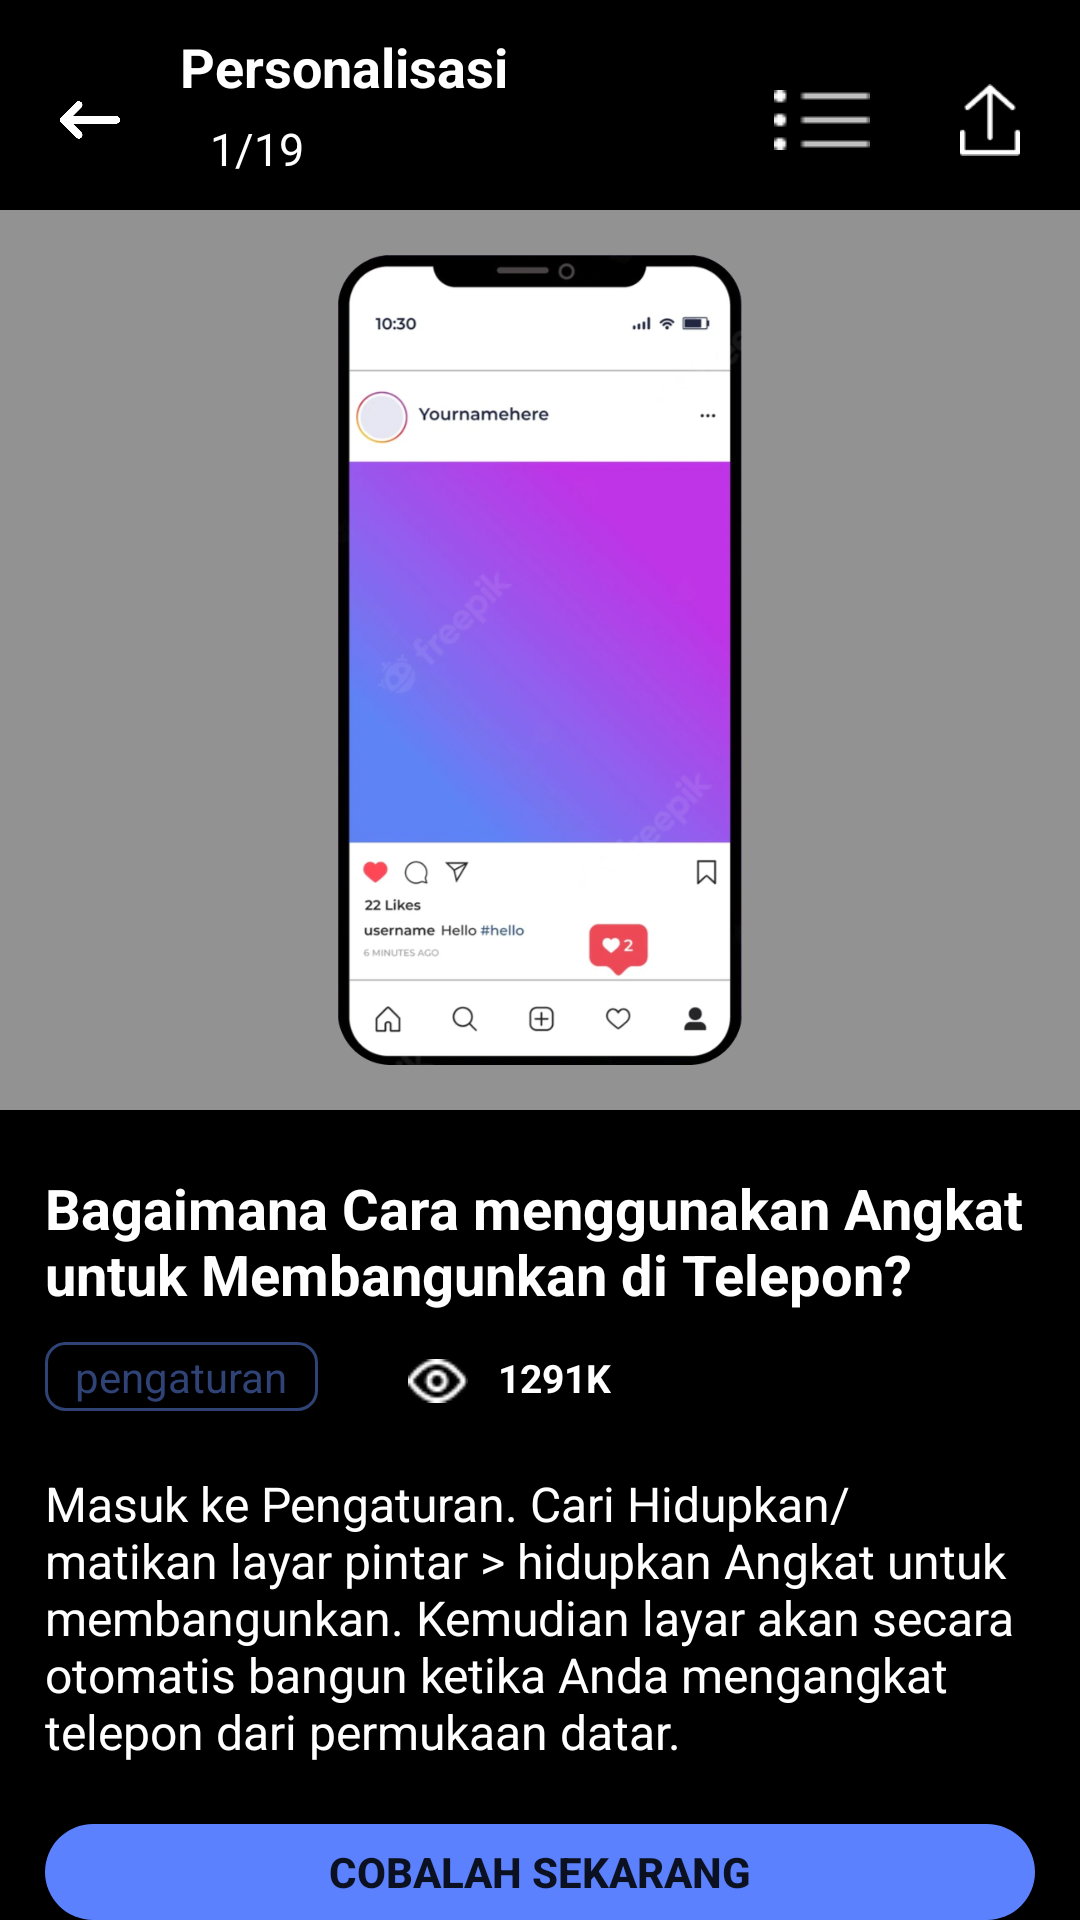

Locate icon controls on the screen. Image size 1080px x 1920px, boxes as (x1, y1, x2, y2).
setting backvector: (60, 101, 120, 139)
setting eye: (408, 1359, 468, 1403)
setting menu: (774, 90, 870, 150)
setting upload: (960, 84, 1020, 156)
